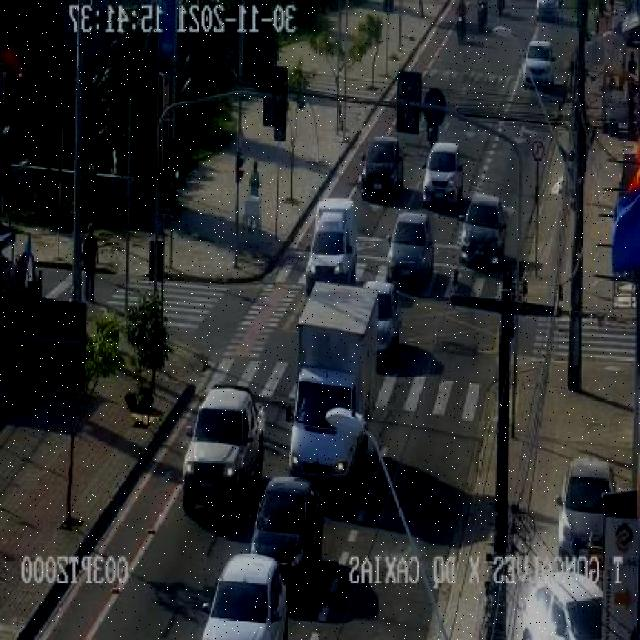Car: (182, 382, 264, 518), (247, 476, 323, 585), (201, 553, 288, 640), (555, 457, 618, 558), (519, 569, 602, 640), (459, 196, 509, 268), (387, 211, 435, 286), (362, 280, 403, 360), (362, 135, 404, 203), (422, 142, 464, 206), (523, 40, 557, 90), (534, 0, 562, 19)
Cycle: (454, 12, 469, 44), (476, 1, 488, 29), (494, 0, 506, 17)
Truck: (283, 280, 380, 488), (304, 198, 355, 293)
